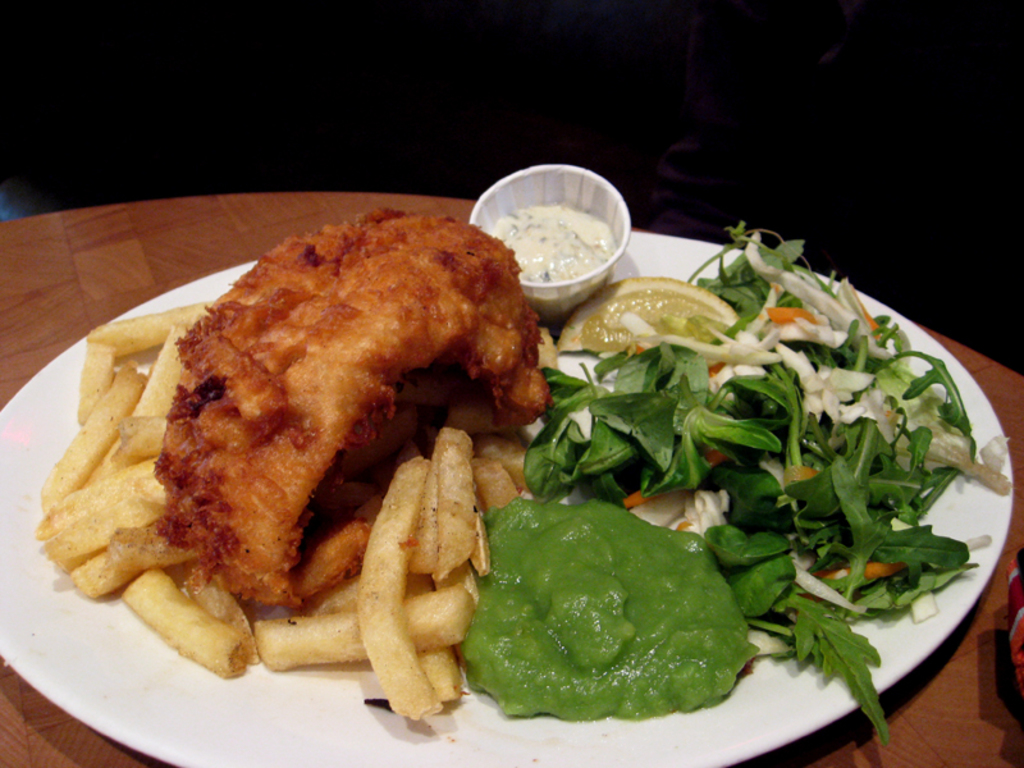French fries: (72, 252, 564, 723)
